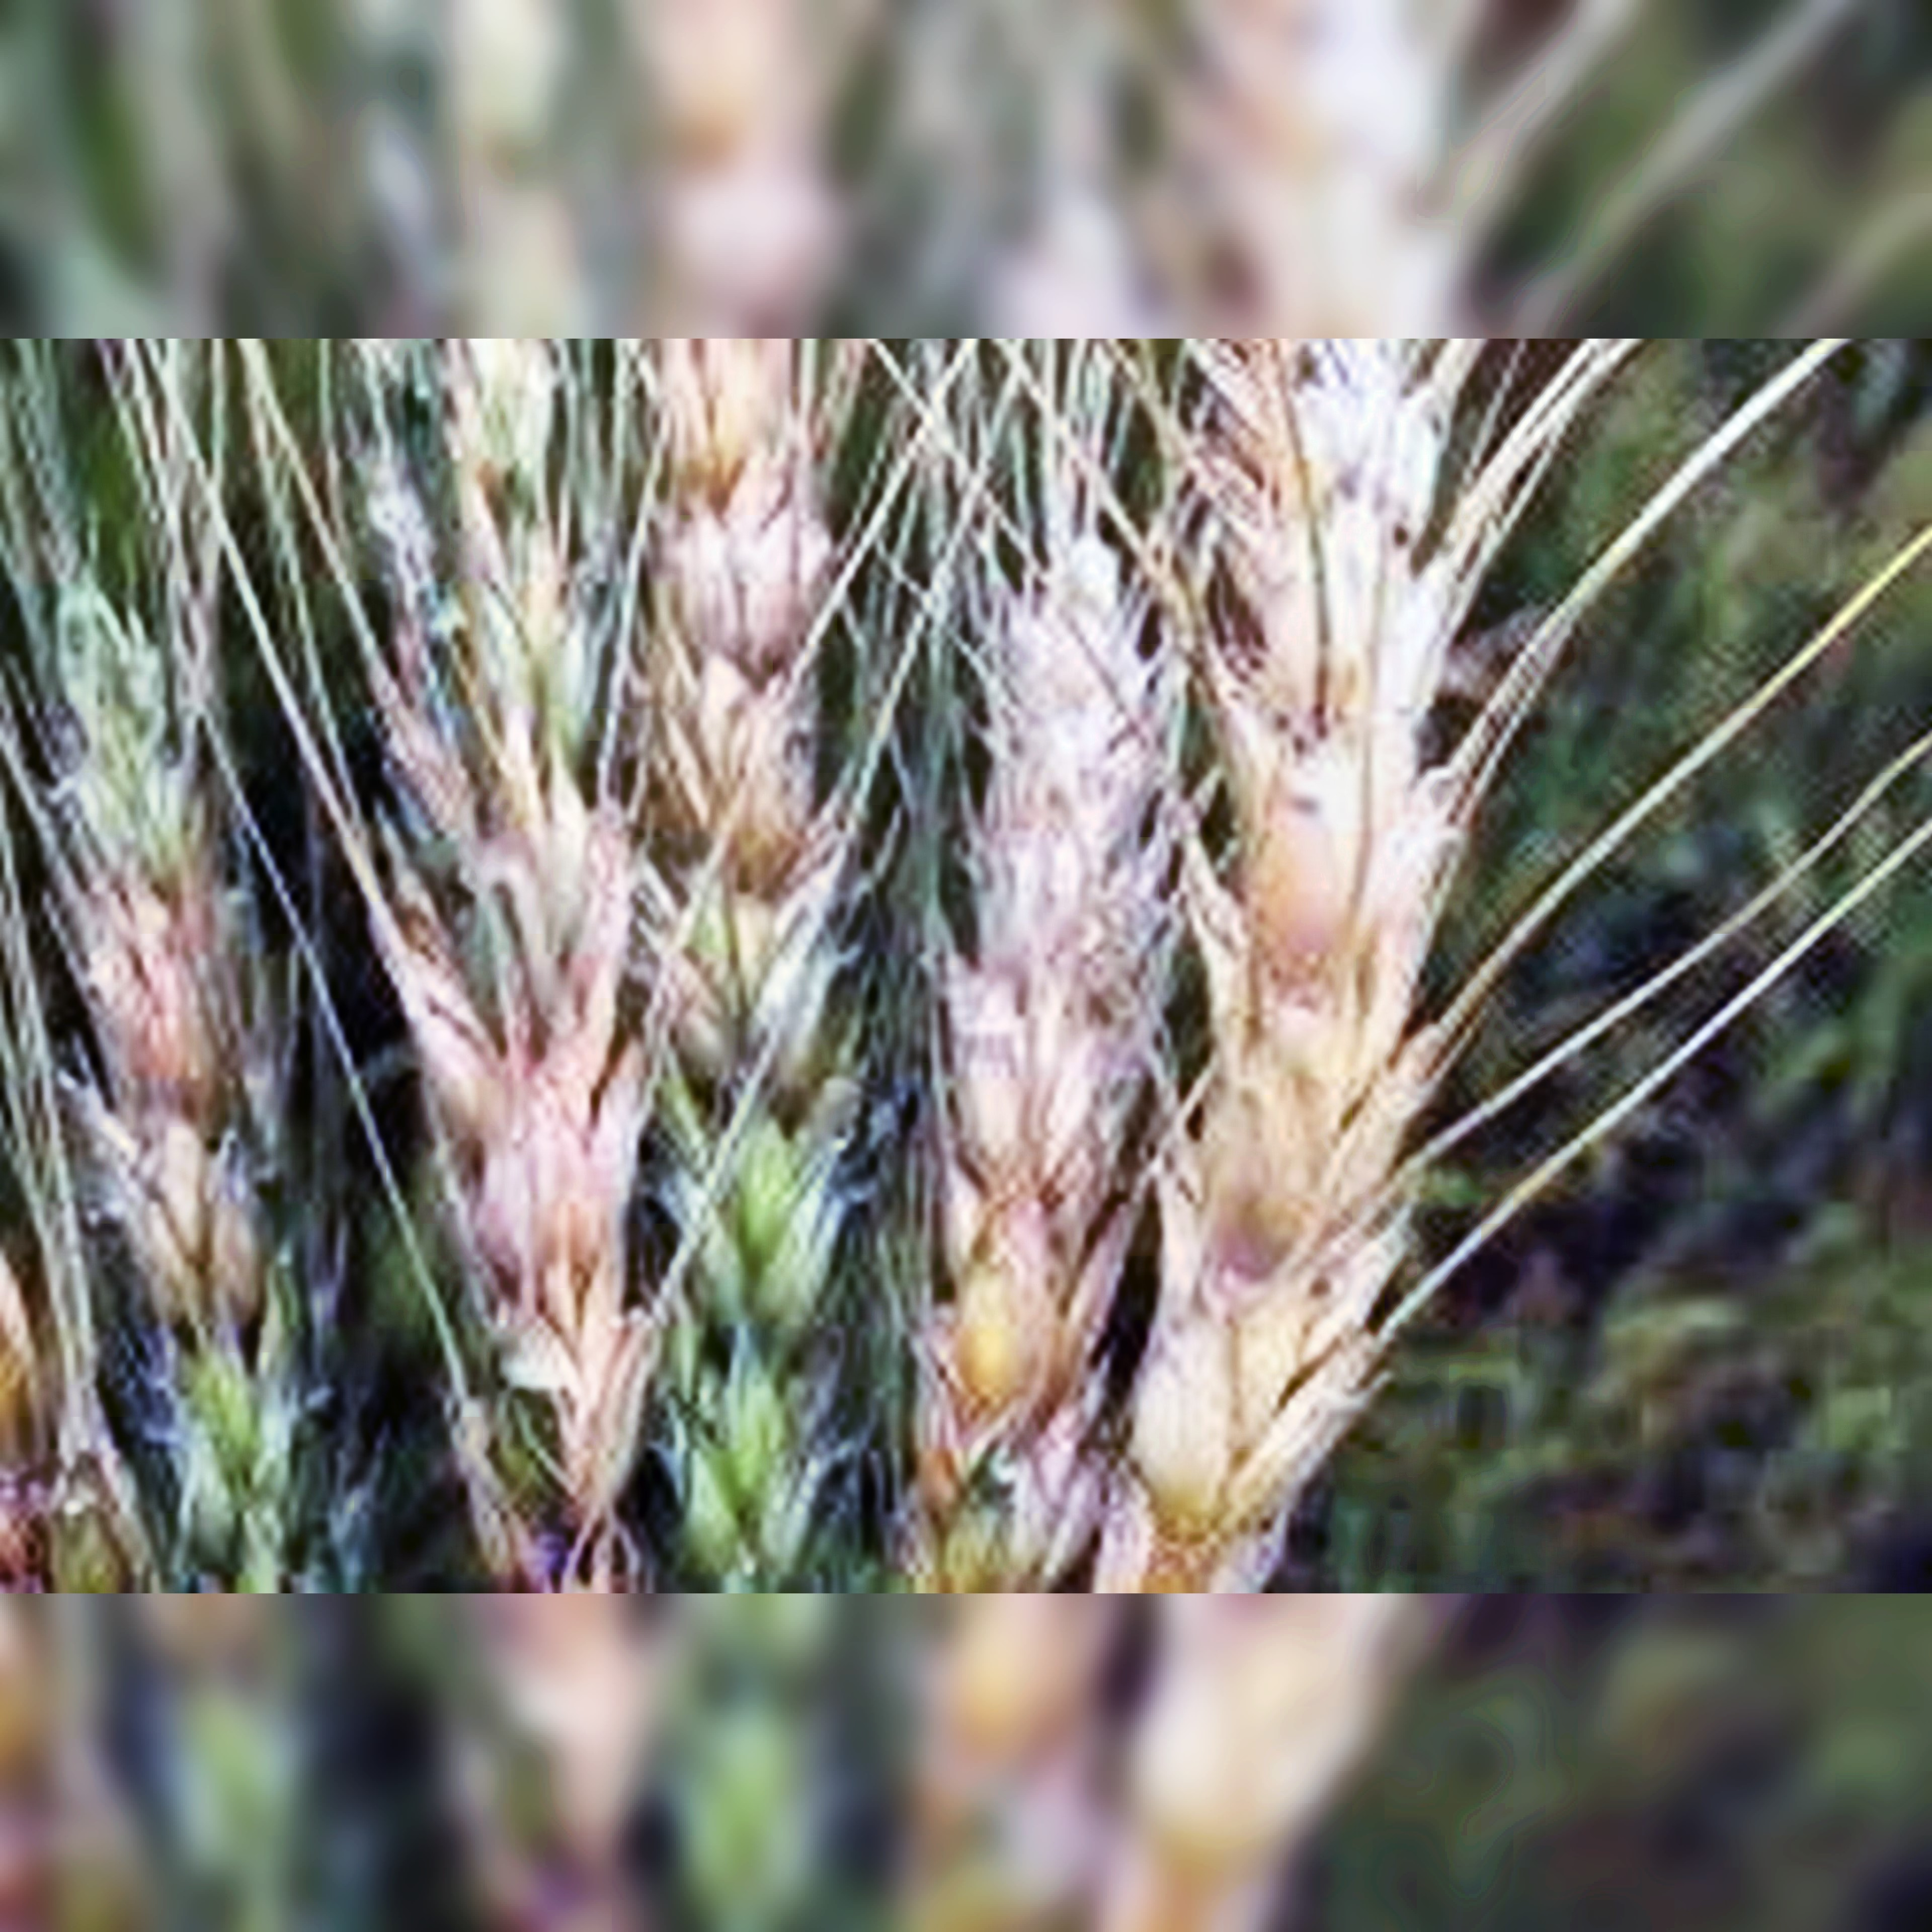Wheat scab: (216, 398, 1523, 1557)
